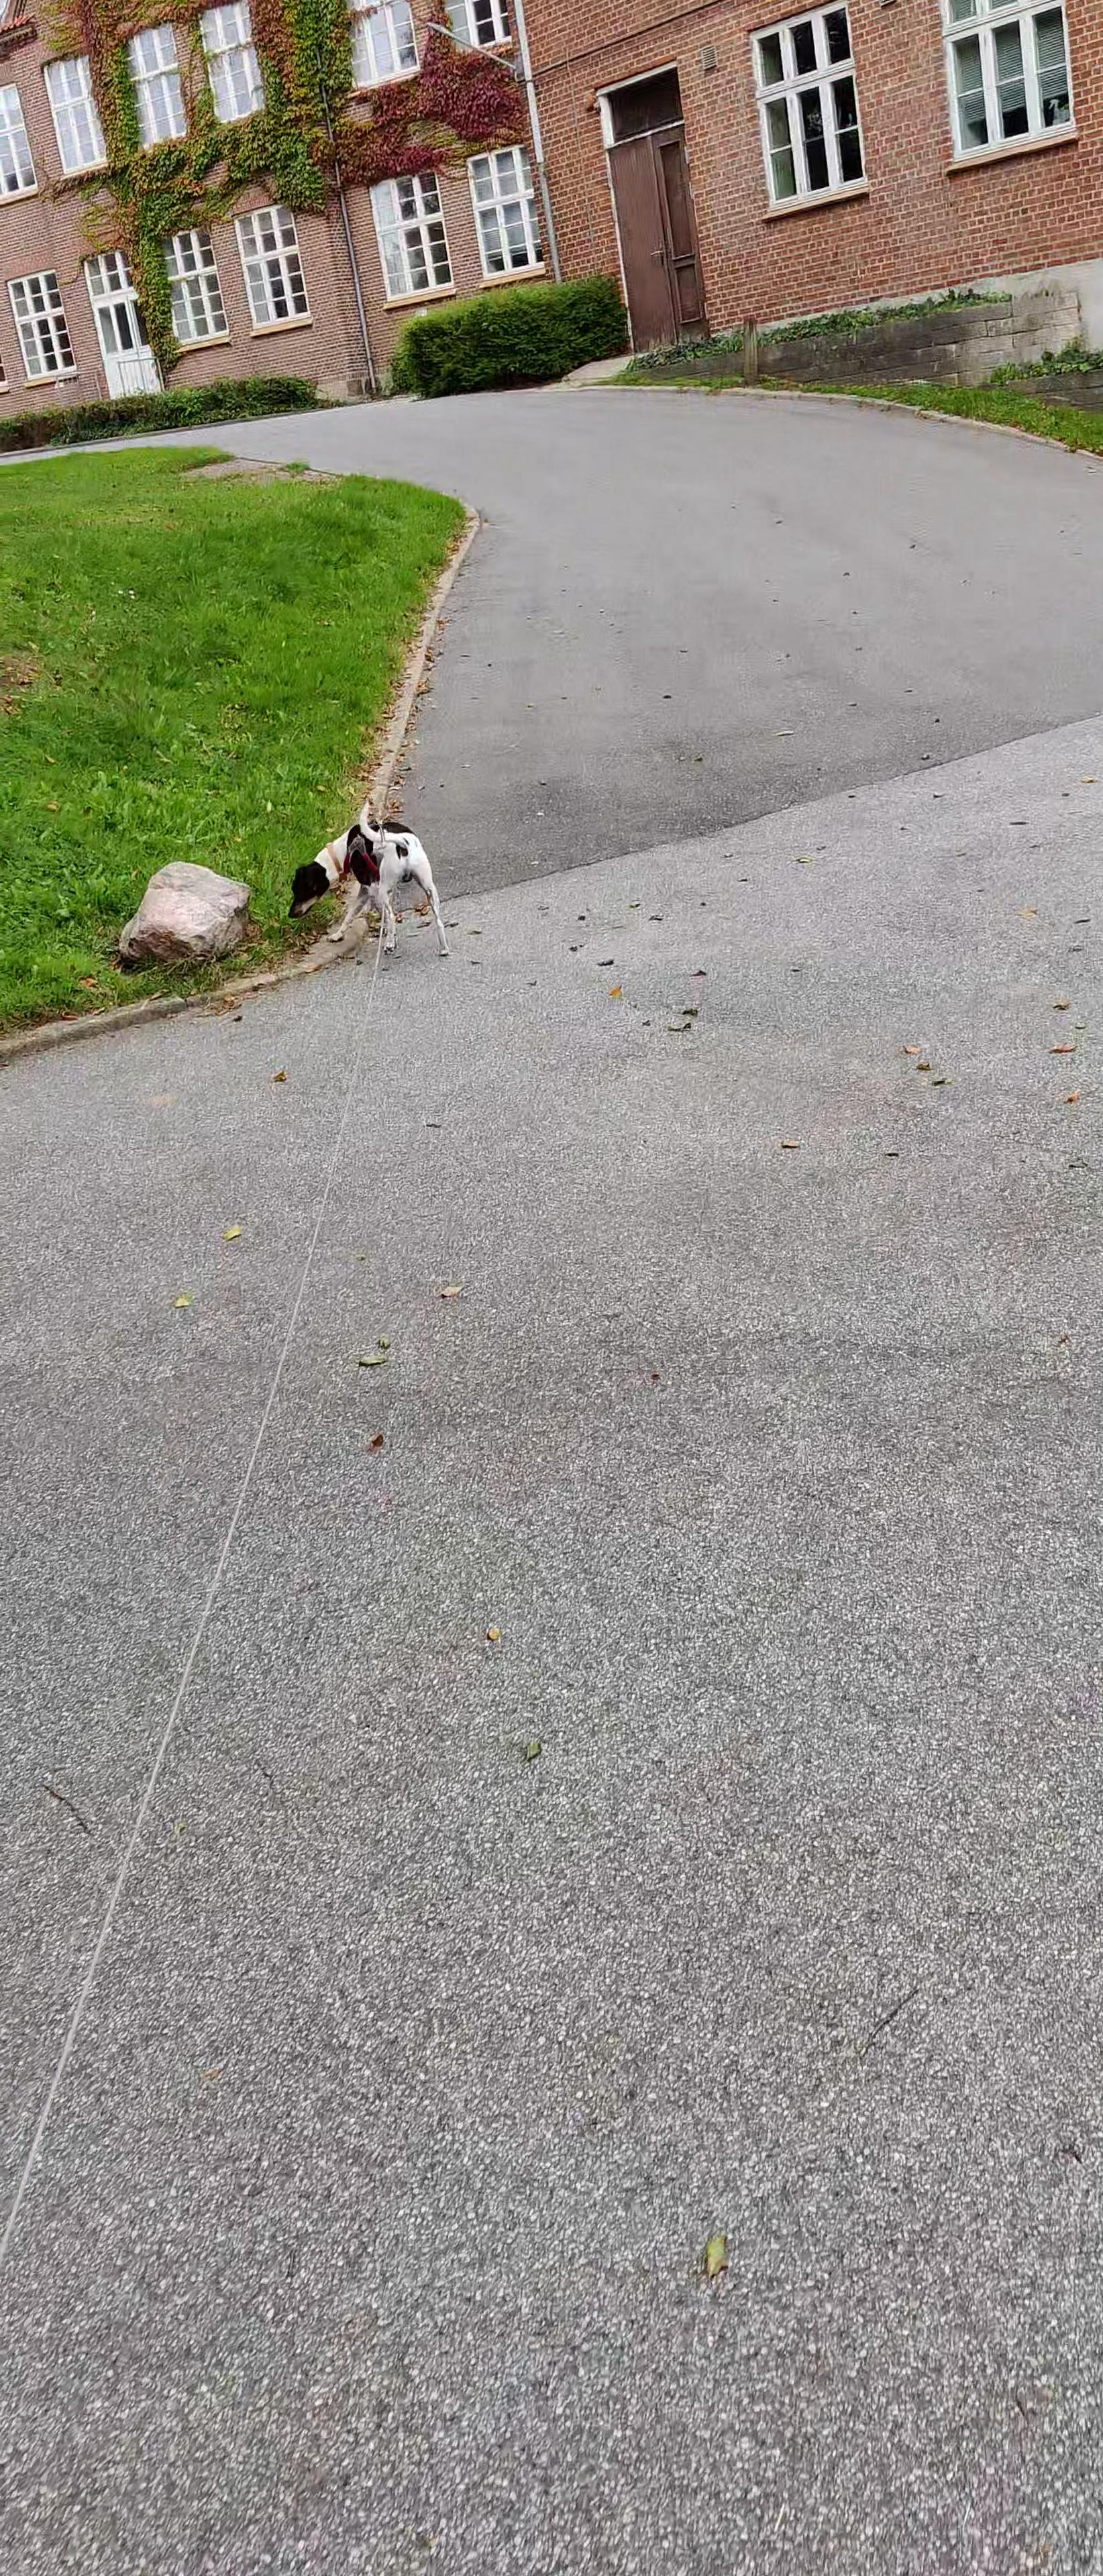Dog: (281, 797, 452, 959)
